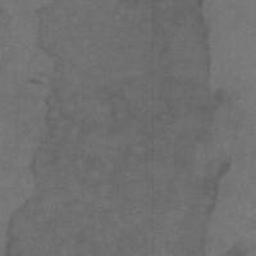Water spot: (6, 0, 237, 256), (212, 236, 250, 256)
